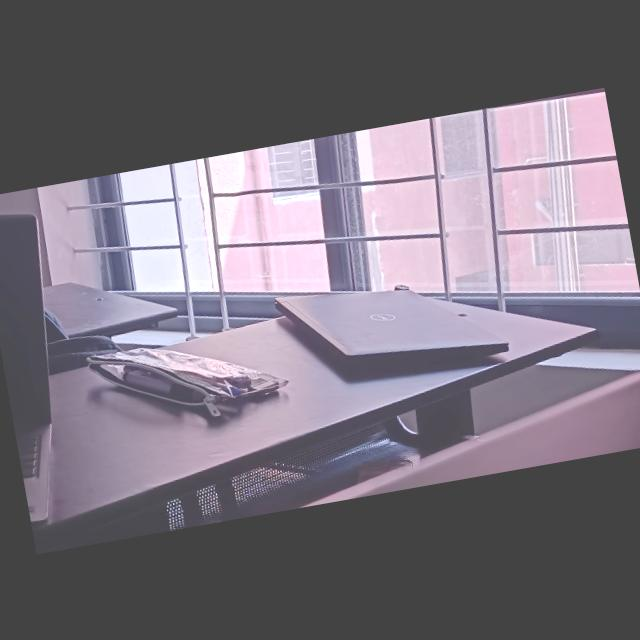laptop: (268, 246, 514, 397)
